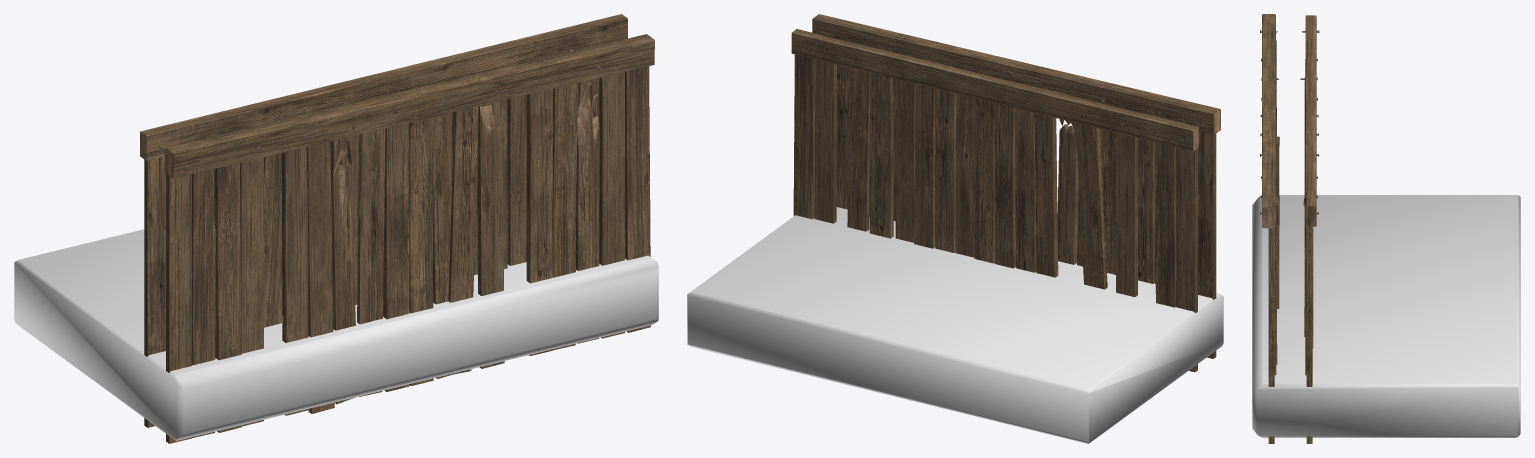
Rendered from SM_Wall_LowPart_A.fbx.
3 views of the same model, side by side, from view 1: azimuth 30°, elevation 25°; view 2: azimuth 150°, elevation 25°; view 3: azimuth 270°, elevation 25° (orthographic). The views are drawn at different scales.
Parts seen in each view (by area): view 1: SM_Wall_LowPart_A, SM_Wall_LowPart_A_ConvexHulls; view 2: SM_Wall_LowPart_A, SM_Wall_LowPart_A_ConvexHulls; view 3: SM_Wall_LowPart_A_ConvexHulls, SM_Wall_LowPart_A.
Boxes of the visible parts, box(x1,y1,x2,y2) form: SM_Wall_LowPart_A: box(140, 14, 654, 443); SM_Wall_LowPart_A_ConvexHulls: box(14, 229, 658, 440); SM_Wall_LowPart_A: box(791, 14, 1220, 372); SM_Wall_LowPart_A_ConvexHulls: box(687, 207, 1223, 443); SM_Wall_LowPart_A_ConvexHulls: box(1252, 195, 1520, 437); SM_Wall_LowPart_A: box(1260, 14, 1319, 443).
Size of the model in its own units: 3.01 by 1.78 by 1.78.
